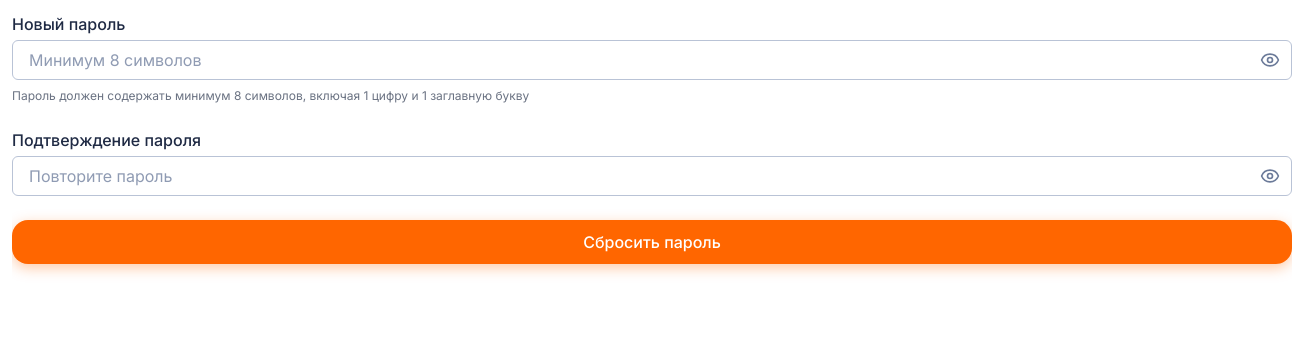
PasswordResetConfirmForm › Client-side Validation › should show error for short password
In the password field labelled "Новый пароль": (652, 60) [12, 40, 1292, 80], type "short"
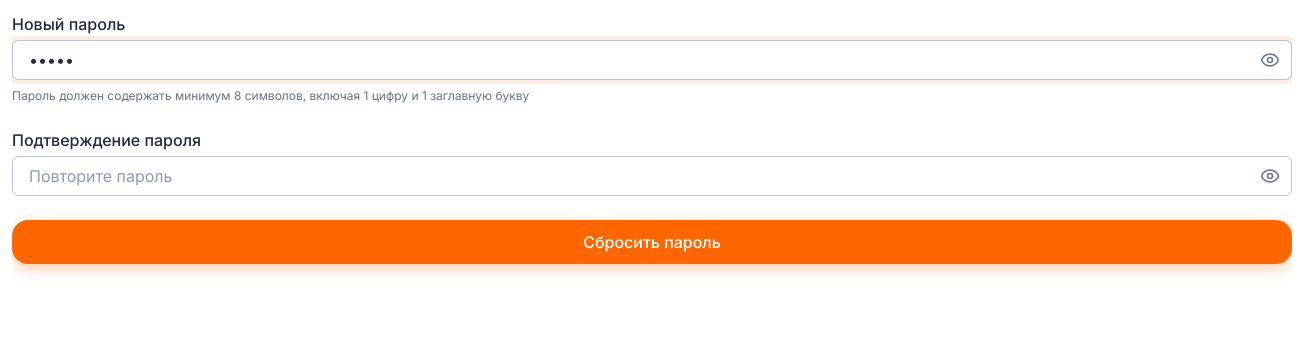
In the password field labelled "Подтверждение пароля": (652, 176) [12, 156, 1292, 196], type "short"
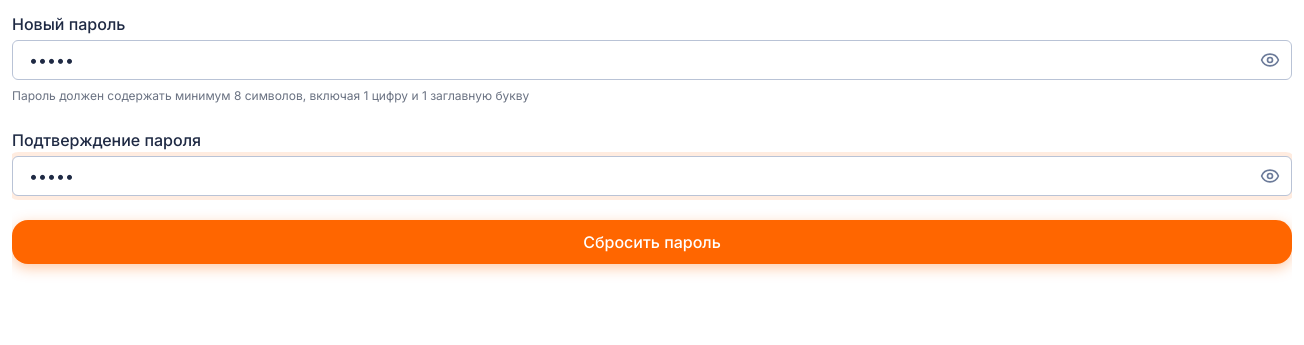
Click the button "Сбросить пароль": (652, 242) [12, 220, 1292, 264]
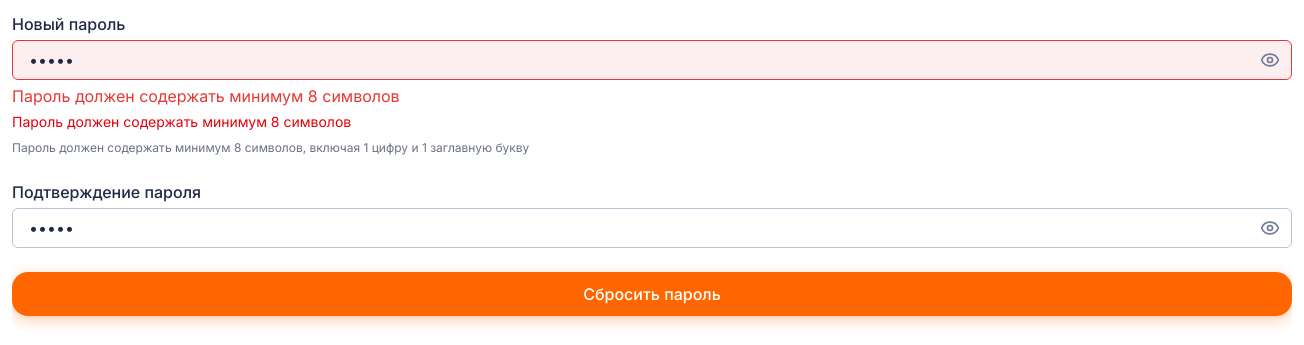
Check: the message "Пароль должен содержать минимум 8 символов" is shown, box [12, 113, 351, 130]
